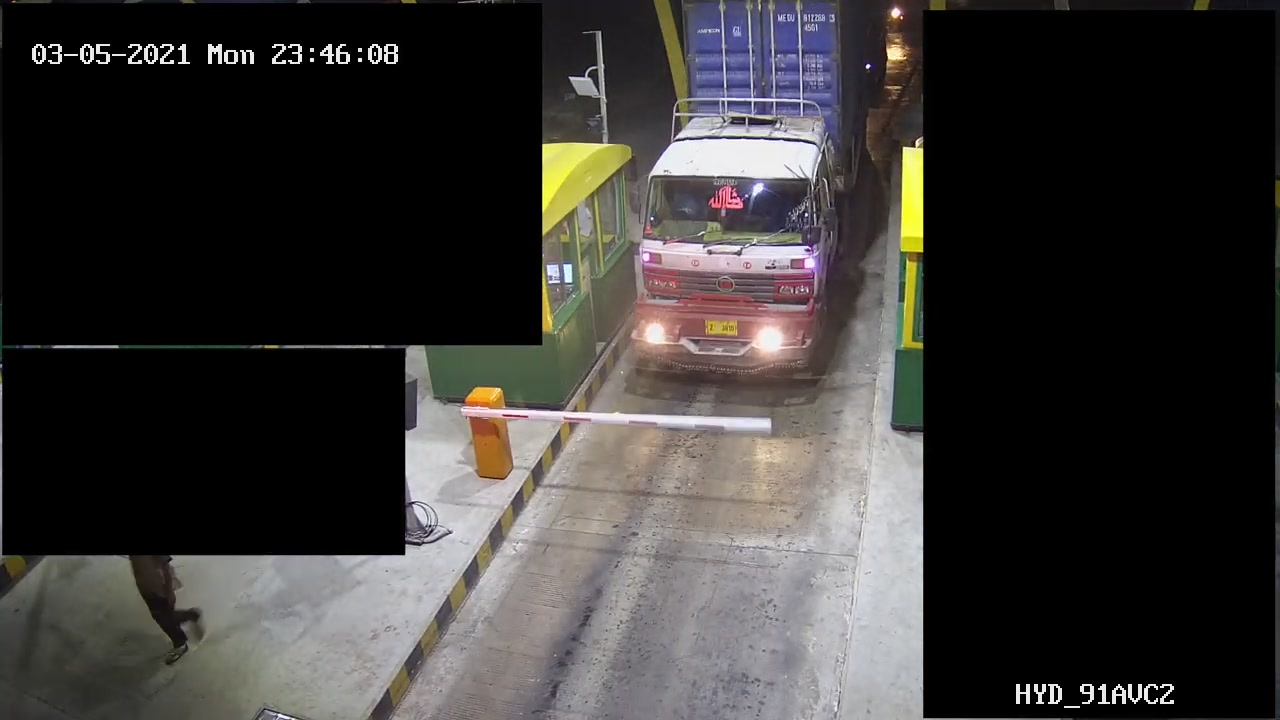F6: (628, 1, 865, 378)
